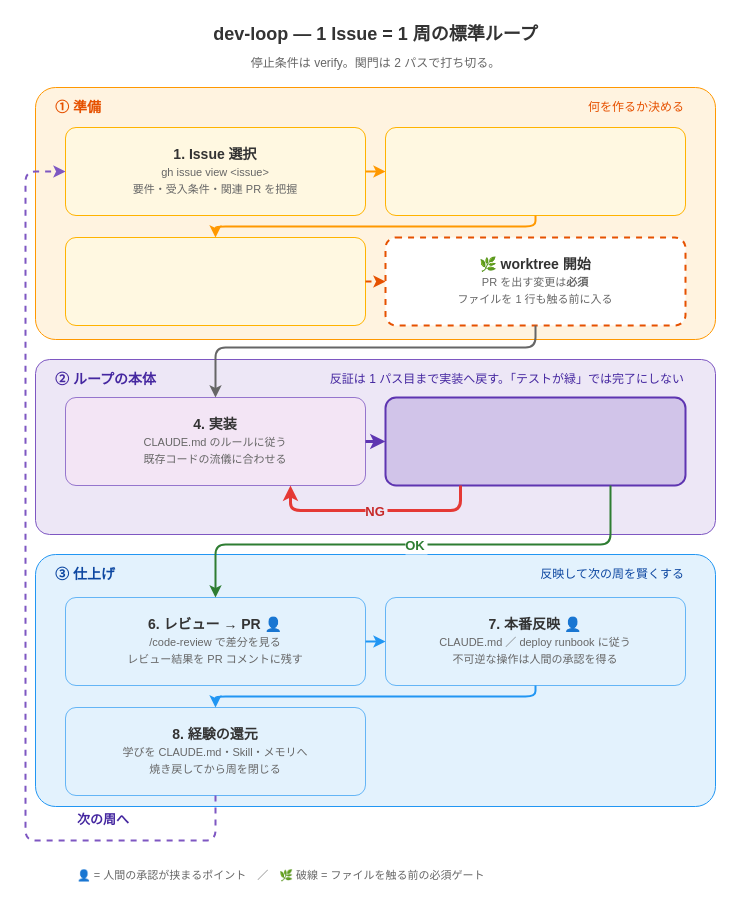
Image size: 733x903. Some labels were removed from this diagram. Each missing label, with the centre of its shape:
"2. 文脈収集 設計・既存実装・過去の議論を読む 受入条件を目視項目へ翻訳する" belongs at (535,171).
"3. 計画 変更範囲・デプロイ経路を確定 計画と受入基準をファイルに残す" belongs at (215,281).
"5. 検証（停止条件）👤 実機で目視 ／ 別モデル Verifier 計画ファイルの受入基準で判定" belongs at (535,441).
